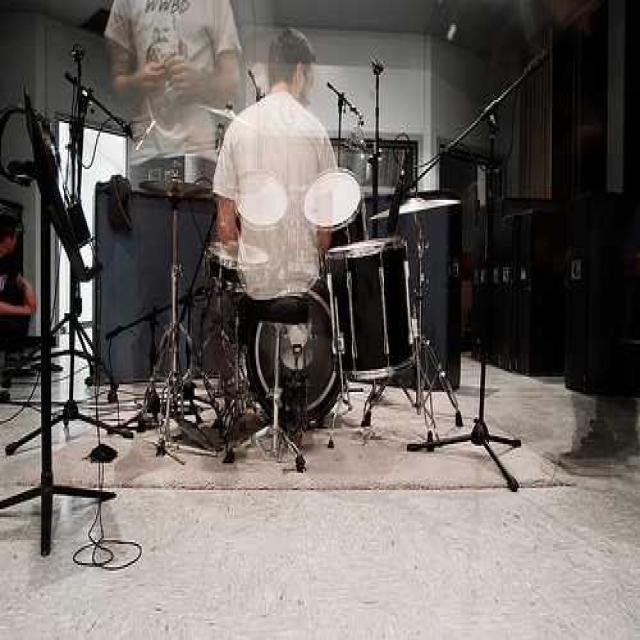microphone: (385, 142, 410, 246)
